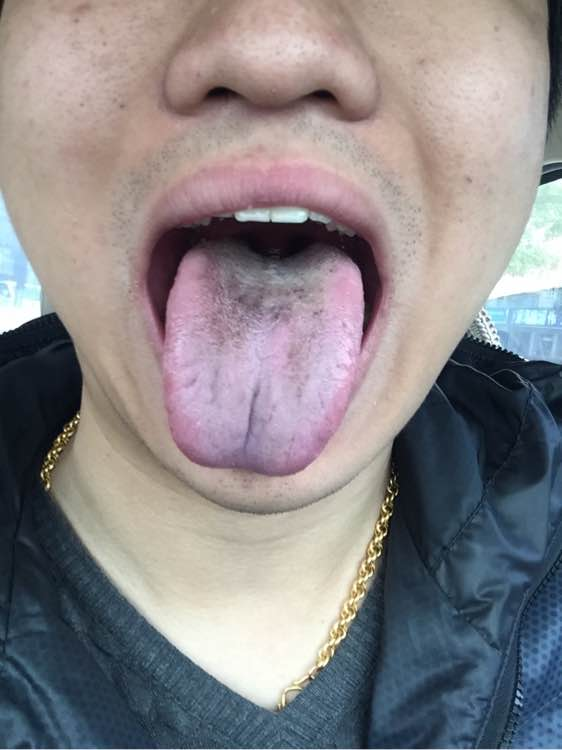heitaishe: (164, 238, 364, 476)
liewenshe: (242, 388, 261, 450)
shenquao: (220, 239, 322, 274)
zishe: (164, 238, 364, 476)
